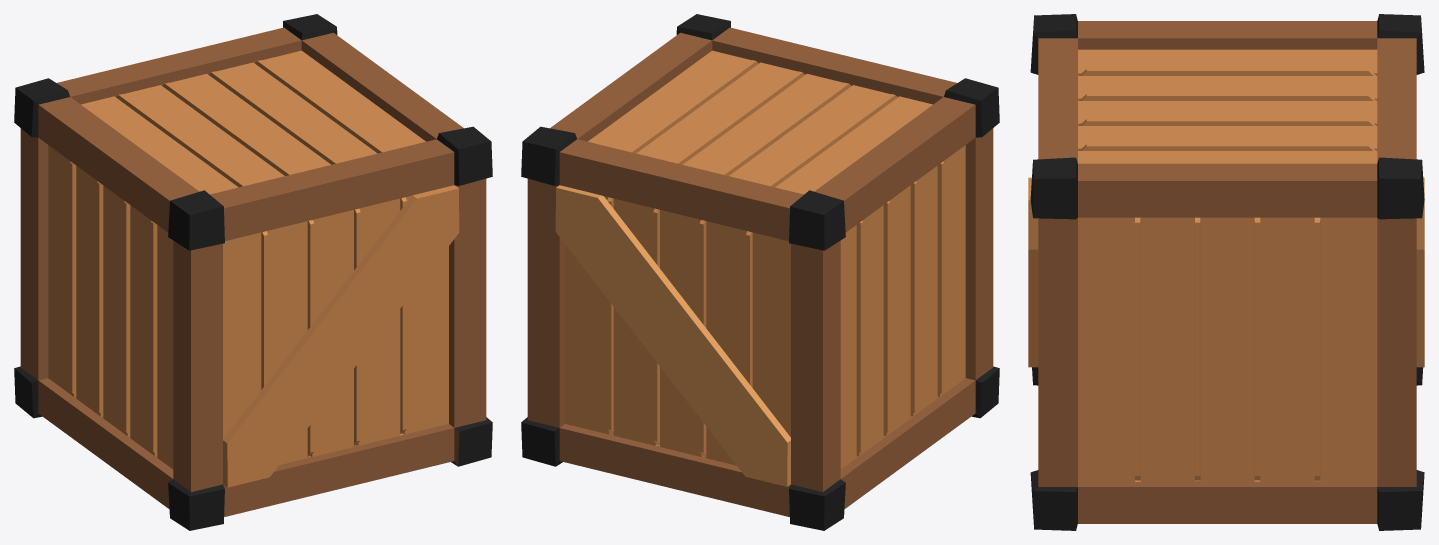
The model's file is crate.fbx.
3 renders of one model, left to right at view 1: azimuth 30°, elevation 25°; view 2: azimuth 150°, elevation 25°; view 3: azimuth 270°, elevation 25°, orthographic. The views are drawn at different scales.
Parts seen in each view (by area): view 1: Cube.001, Cube; view 2: Cube.001, Cube; view 3: Cube.001, Cube.
Boxes of the visible parts, left/top/right/bottom form: Cube.001: left=48, top=50, right=459, bottom=487; Cube: left=14, top=14, right=492, bottom=530; Cube.001: left=555, top=50, right=965, bottom=486; Cube: left=521, top=14, right=999, bottom=530; Cube.001: left=1028, top=49, right=1424, bottom=481; Cube: left=1030, top=14, right=1424, bottom=530.
Bounding box in the file's own units: 208 × 208 × 210.
